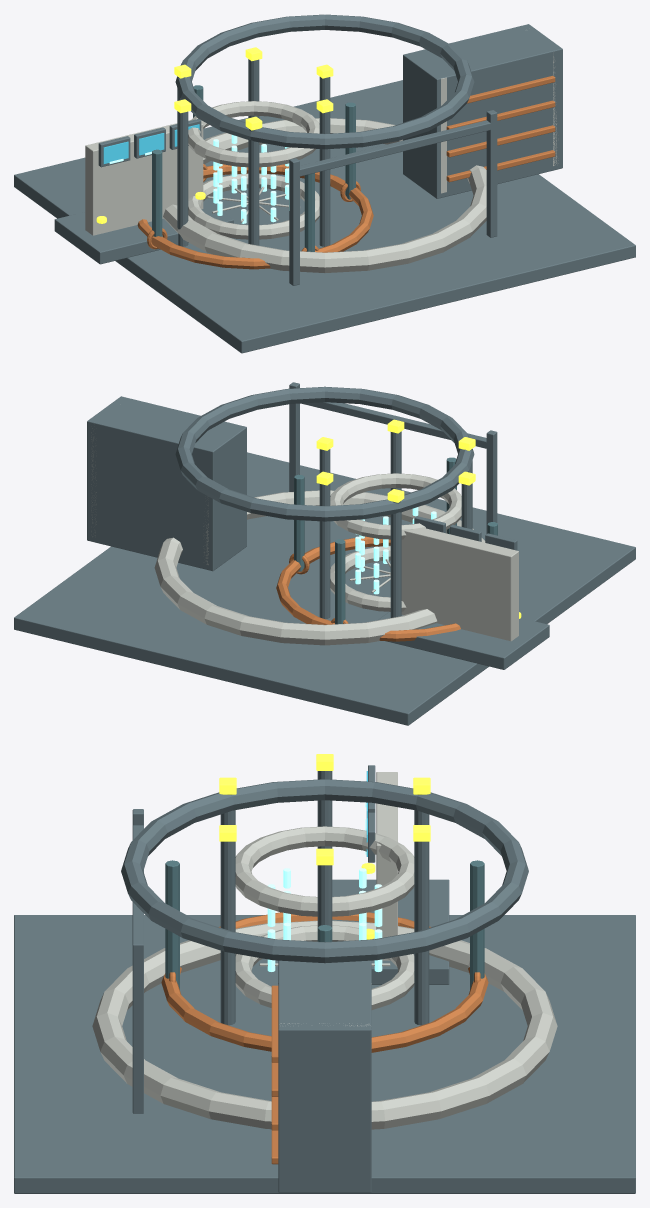
Rendered from micro_reactor_complex_d0.glb.
3 views of the same model, one above another, from view 1: azimuth 30°, elevation 25°; view 2: azimuth 150°, elevation 25°; view 3: azimuth 270°, elevation 25° (orthographic). The views are drawn at different scales.
Parts seen in each view (by area): view 1: Reactor deck, Exchanger frame, Upper service ring, Open shield ring, Open instrument rack, Core vessel upper, Manifold ring, Control skid base, Core vessel lower, Open safety gantry, Control rod guide.003, Gantry upright.001 (+12 smaller); view 2: Reactor deck, Exchanger frame, Open instrument rack, Upper service ring, Open shield ring, Control skid base, Core vessel upper, Manifold ring, Open safety gantry, Control rod guide.001, Core vessel lower, Control rod guide.002 (+6 smaller); view 3: Reactor deck, Exchanger frame, Upper service ring, Open shield ring, Core vessel upper, Manifold ring, Core vessel lower, Control skid base, Control rod guide.001, Control rod guide.005, Gantry upright.001, Open instrument rack (+5 smaller).
Boxes of the visible parts, x1,y1,x2,y2 form: Reactor deck: [14, 80, 635, 353]; Exchanger frame: [403, 24, 562, 198]; Upper service ring: [175, 14, 474, 149]; Open shield ring: [163, 118, 486, 272]; Open instrument rack: [85, 120, 203, 235]; Core vessel upper: [188, 101, 319, 167]; Manifold ring: [137, 164, 373, 269]; Control skid base: [54, 199, 233, 264]; Core vessel lower: [188, 173, 319, 239]; Open safety gantry: [297, 120, 493, 176]; Control rod guide.003: [177, 111, 188, 246]; Gantry upright.001: [486, 110, 497, 237]; Reactor deck: [14, 452, 635, 725]; Exchanger frame: [87, 396, 246, 571]; Open instrument rack: [401, 524, 518, 641]; Upper service ring: [175, 386, 474, 521]; Open shield ring: [154, 490, 485, 645]; Control skid base: [378, 611, 549, 669]; Core vessel upper: [330, 473, 461, 539]; Manifold ring: [276, 536, 460, 641]; Open safety gantry: [301, 402, 489, 448]; Control rod guide.001: [319, 484, 330, 618]; Core vessel lower: [330, 546, 406, 611]; Control rod guide.002: [390, 501, 401, 617]; Reactor deck: [14, 915, 635, 1193]; Exchanger frame: [278, 960, 371, 1192]; Upper service ring: [121, 779, 528, 963]; Open shield ring: [92, 920, 557, 1129]; Core vessel upper: [235, 826, 414, 916]; Manifold ring: [161, 912, 488, 1052]; Core vessel lower: [235, 925, 414, 1009]; Control skid base: [332, 879, 449, 984]; Control rod guide.001: [414, 841, 429, 1025]; Control rod guide.005: [220, 841, 235, 1025]; Gantry upright.001: [132, 940, 143, 1113]; Open instrument rack: [376, 772, 397, 960].
Bounding box in the file's own units: 11.3 × 3.74 × 10.
